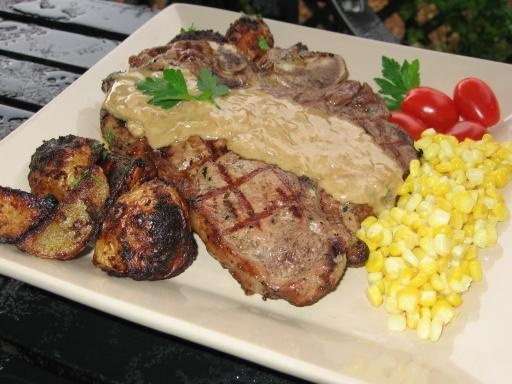background: (0, 8, 410, 205)
